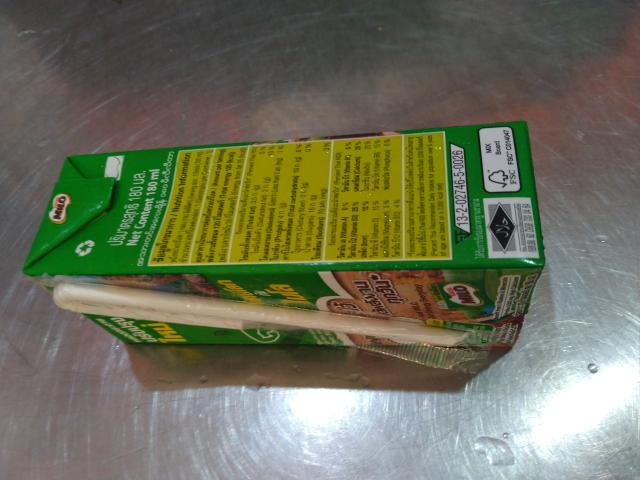drink_box: (13, 113, 587, 387)
